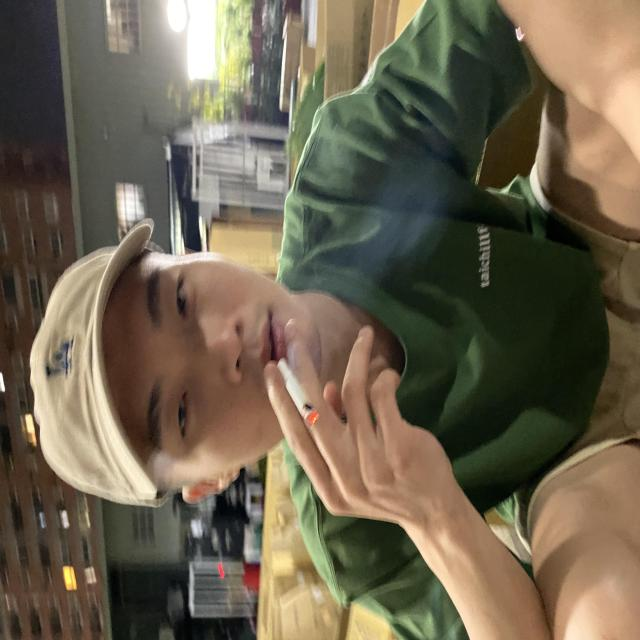cigarette: (266, 349, 334, 458)
